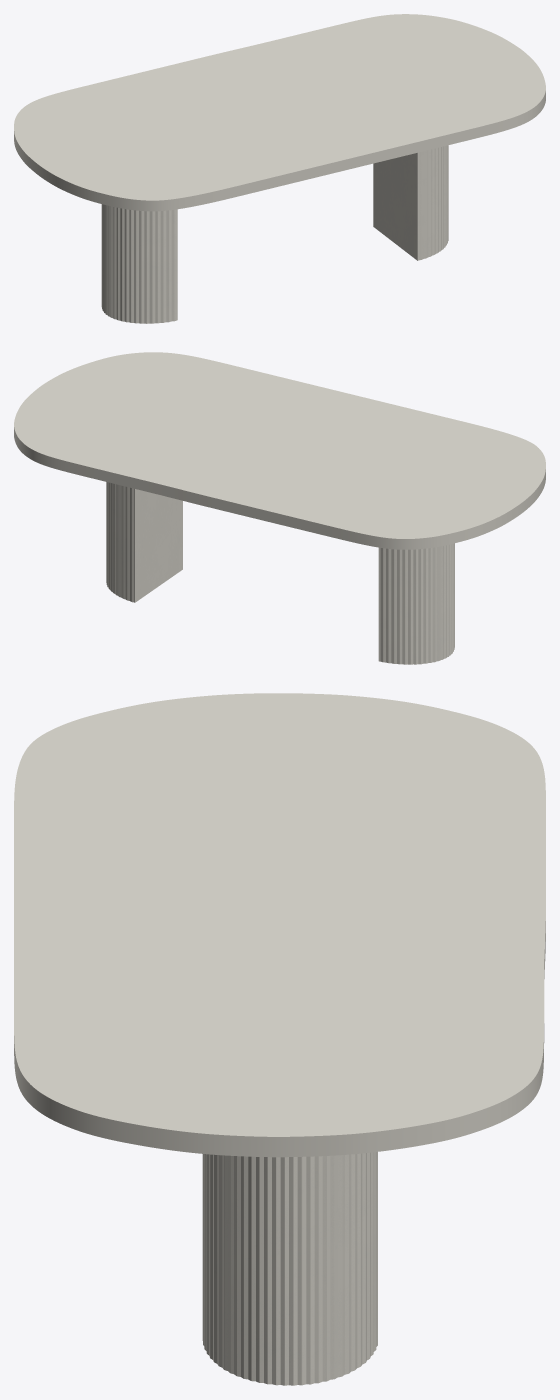
File: pale_oval_standard_flute.glb
3 renders of one model, top to bottom at view 1: azimuth 30°, elevation 25°; view 2: azimuth 150°, elevation 25°; view 3: azimuth 270°, elevation 25°, orthographic. The views are drawn at different scales.
Parts seen in each view (by area): view 1: standard_oval, flute; view 2: standard_oval, flute; view 3: standard_oval, flute.
Boxes of the visible parts, <box> form: standard_oval: <box>14,14,545,211</box>; flute: <box>101,145,448,323</box>; standard_oval: <box>14,352,545,549</box>; flute: <box>106,482,454,664</box>; standard_oval: <box>14,693,545,1157</box>; flute: <box>202,1152,377,1385</box>.
Size of the model in its own units: 7.5 by 2.5 by 3.8.
Materials: 1 (1 with a texture image).
